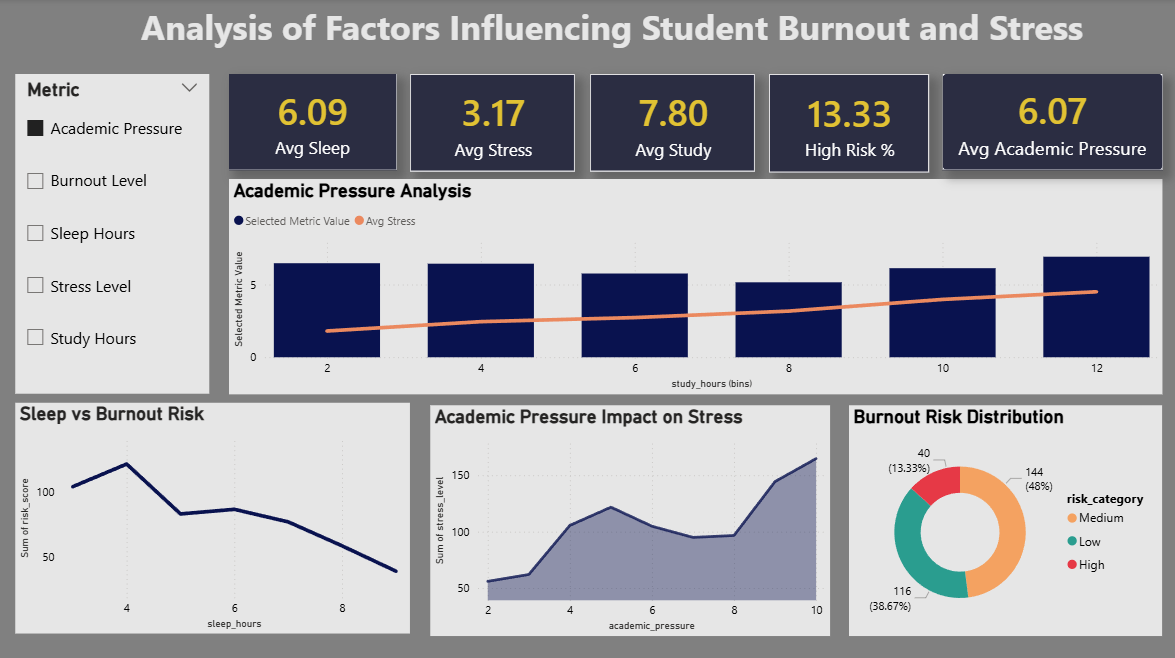

The page's visual inventory and layout, read from the dashboard file:
{"tool":"powerbi","page":{"name":"Page 1","canvas":[1280,720],"ordinal":0},"visuals":[{"type":"cardVisual","fields":{"Data":["processed_data.Avg Sleep"]},"box":[250.3,81.6,182.3,104.8],"z":0},{"type":"cardVisual","fields":{"Data":["processed_data.Avg Stress"]},"box":[448,81.6,179.6,106.1],"z":1000},{"type":"cardVisual","fields":{"Data":["processed_data.Avg Study"]},"box":[642.9,81.6,179.6,106.1],"z":2000},{"type":"cardVisual","fields":{"Data":["processed_data.High Risk %"]},"box":[837.8,81.6,174.2,107.5],"z":3000},{"type":"lineClusteredColumnComboChart","fields":{"Y":["KPI Selector.Selected Metric Value"],"Category":["processed_data.study_hours (bins)"],"Y2":["processed_data.Avg Stress"]},"box":[250.3,195.9,1016.3,234],"z":4000},{"type":"slicer","fields":{"Values":["KPI Selector.Metric"]},"box":[17.7,81.6,210.9,348.3],"z":5000},{"type":"cardVisual","fields":{"Data":["KPI Selector.Avg Academic Pressure"]},"box":[1027.2,81.6,239.5,104.8],"z":6000},{"type":"textbox","box":[114.3,0,1106.1,69.4],"z":7000},{"type":"lineChart","title":"Sleep vs Burnout Risk","fields":{"Category":["processed_data.sleep_hours"],"Y":["Sum(processed_data.risk_score)"]},"box":[18.2,439.4,429.6,251.3],"z":8000},{"type":"areaChart","title":"Academic Pressure Impact on Stress","fields":{"Category":["processed_data.academic_pressure"],"Y":["Sum(processed_data.stress_level)"]},"box":[468.9,442.2,435.2,251.3],"z":9000},{"type":"donutChart","title":"Burnout Risk Distribution","fields":{"Category":["processed_data.risk_category"],"Y":["Count(processed_data.student_id)"]},"box":[925.1,442.2,341.1,251.3],"z":10000}]}

Visuals, with their boxes in screenshot pixels (x1, y1, x2, y2), scaled from the page's 1280x720 canvas onto the 1175x658 screenshot:
cardVisual - processed_data.Avg Sleep: (x1=230, y1=75, x2=397, y2=170)
cardVisual - processed_data.Avg Stress: (x1=411, y1=75, x2=576, y2=172)
cardVisual - processed_data.Avg Study: (x1=590, y1=75, x2=755, y2=172)
cardVisual - processed_data.High Risk %: (x1=769, y1=75, x2=929, y2=173)
lineClusteredColumnComboChart - KPI Selector.Selected Metric Value x processed_data.study_hours (bins): (x1=230, y1=179, x2=1163, y2=393)
slicer - KPI Selector.Metric: (x1=16, y1=75, x2=210, y2=393)
cardVisual - KPI Selector.Avg Academic Pressure: (x1=943, y1=75, x2=1163, y2=170)
textbox: (x1=105, y1=0, x2=1120, y2=63)
"Sleep vs Burnout Risk" lineChart: (x1=17, y1=402, x2=411, y2=631)
"Academic Pressure Impact on Stress" areaChart: (x1=430, y1=404, x2=830, y2=634)
"Burnout Risk Distribution" donutChart: (x1=849, y1=404, x2=1162, y2=634)
